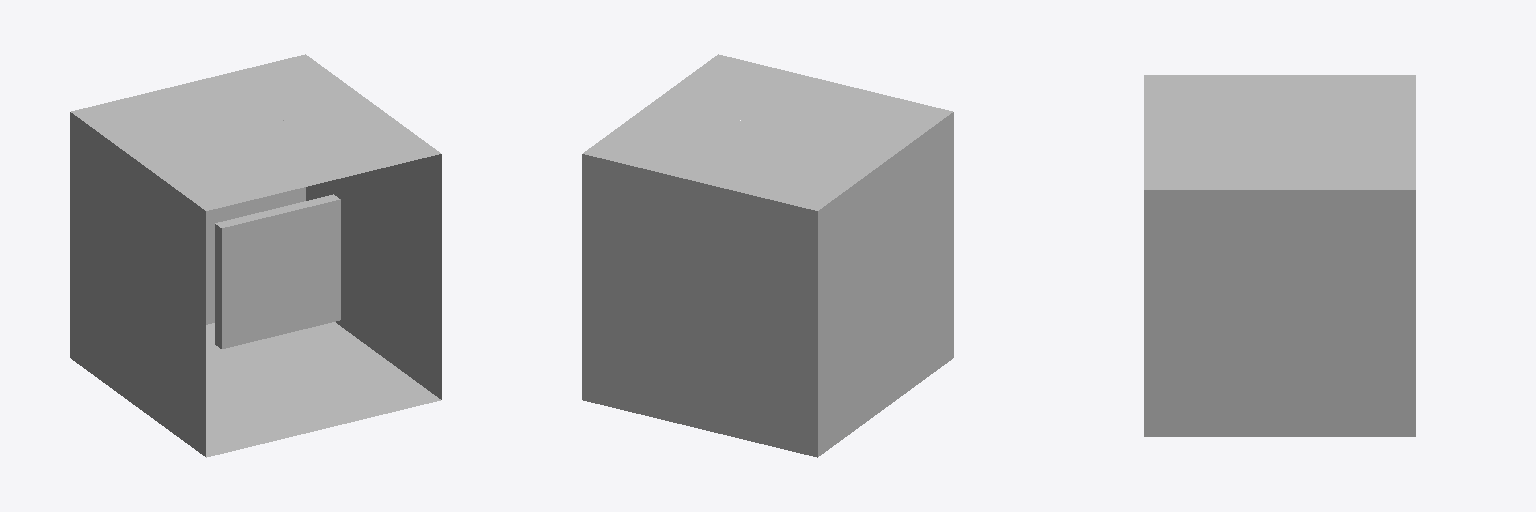
Rendered from transparent_center.obj.
3 views of the same model, side by side, from view 1: azimuth 30°, elevation 25°; view 2: azimuth 150°, elevation 25°; view 3: azimuth 270°, elevation 25° (orthographic).
Parts seen in each view (by area): view 1: Cube.001_Cube.002_Cube.001_Cube.005, Cube.001_Cube.005_Cube.001_Cube.008, Cube.001_Cube.003_Cube.001_Cube.006, Cube.001_Cube.001_Cube.001_Cube.004, Cube.001_Cube.009, Cube.001_Cube.004_Cube.001_Cube.007, Cube.001_Cube.010_Cube.001_Cube.013, Cube.001_Cube.006_Cube.001_Cube.010, Cube.001_Cube.007_Cube.001_Cube.011, Cube.001_Cube.011_Cube.001_Cube.014, Cube.001_Cube.008_Cube.001_Cube.012; view 2: Cube.001_Cube.004_Cube.001_Cube.007, Cube.001_Cube.002_Cube.001_Cube.005, Cube.001_Cube.005_Cube.001_Cube.008, Cube.001_Cube.006_Cube.001_Cube.010; view 3: Cube.001_Cube.003_Cube.001_Cube.006, Cube.001_Cube.005_Cube.001_Cube.008, Cube.001_Cube.006_Cube.001_Cube.010.
Boxes of the visible parts, box(x1,y1,x2,y2) form: Cube.001_Cube.002_Cube.001_Cube.005: box(70, 112, 205, 456); Cube.001_Cube.005_Cube.001_Cube.008: box(71, 54, 440, 210); Cube.001_Cube.003_Cube.001_Cube.006: box(306, 154, 441, 399); Cube.001_Cube.001_Cube.001_Cube.004: box(206, 322, 440, 457); Cube.001_Cube.009: box(233, 214, 328, 334); Cube.001_Cube.004_Cube.001_Cube.007: box(206, 120, 305, 324); Cube.001_Cube.010_Cube.001_Cube.013: box(215, 194, 340, 239); Cube.001_Cube.006_Cube.001_Cube.010: box(212, 110, 300, 146); Cube.001_Cube.007_Cube.001_Cube.011: box(215, 236, 232, 336); Cube.001_Cube.011_Cube.001_Cube.014: box(215, 308, 340, 348); Cube.001_Cube.008_Cube.001_Cube.012: box(329, 211, 340, 310); Cube.001_Cube.004_Cube.001_Cube.007: box(582, 154, 817, 457); Cube.001_Cube.002_Cube.001_Cube.005: box(818, 112, 953, 456); Cube.001_Cube.005_Cube.001_Cube.008: box(583, 54, 952, 210); Cube.001_Cube.006_Cube.001_Cube.010: box(715, 116, 803, 152); Cube.001_Cube.003_Cube.001_Cube.006: box(1144, 190, 1415, 436); Cube.001_Cube.005_Cube.001_Cube.008: box(1144, 75, 1415, 189); Cube.001_Cube.006_Cube.001_Cube.010: box(1255, 121, 1320, 148).
Size of the model in its own units: 8.28 by 8.28 by 8.28.